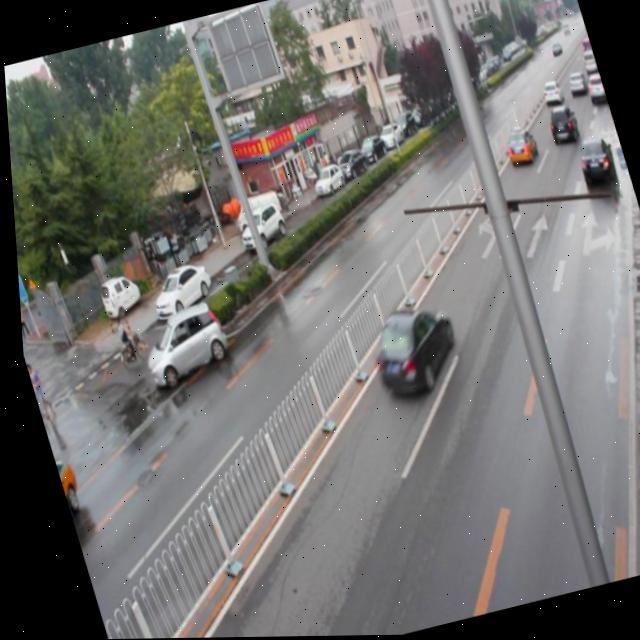car: (355, 292, 465, 406), (129, 297, 227, 389), (568, 134, 612, 185), (495, 124, 539, 169), (539, 102, 580, 149)
